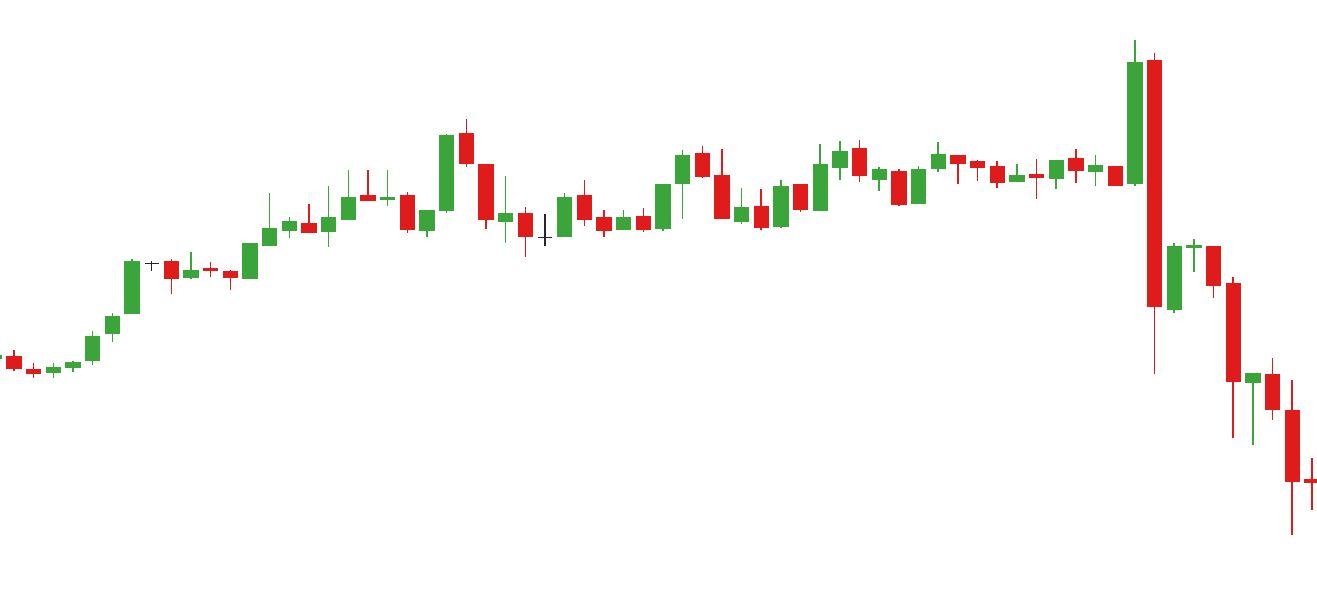sell: (926, 44, 1167, 182)
